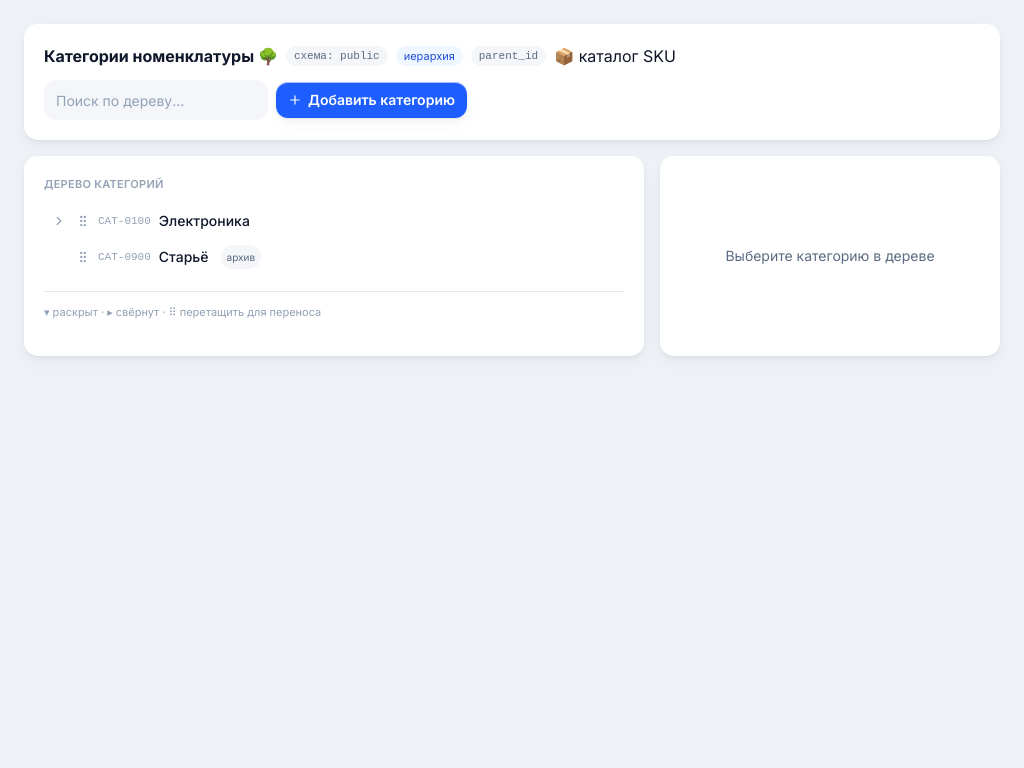
Scenario: SpravCategories › выбор узла раскрывает карточку с реквизитами и унаследованными данными группы
Click the text "Электроника" at (204, 220), box left=159, top=210, right=250, bottom=230
(page scrolled)
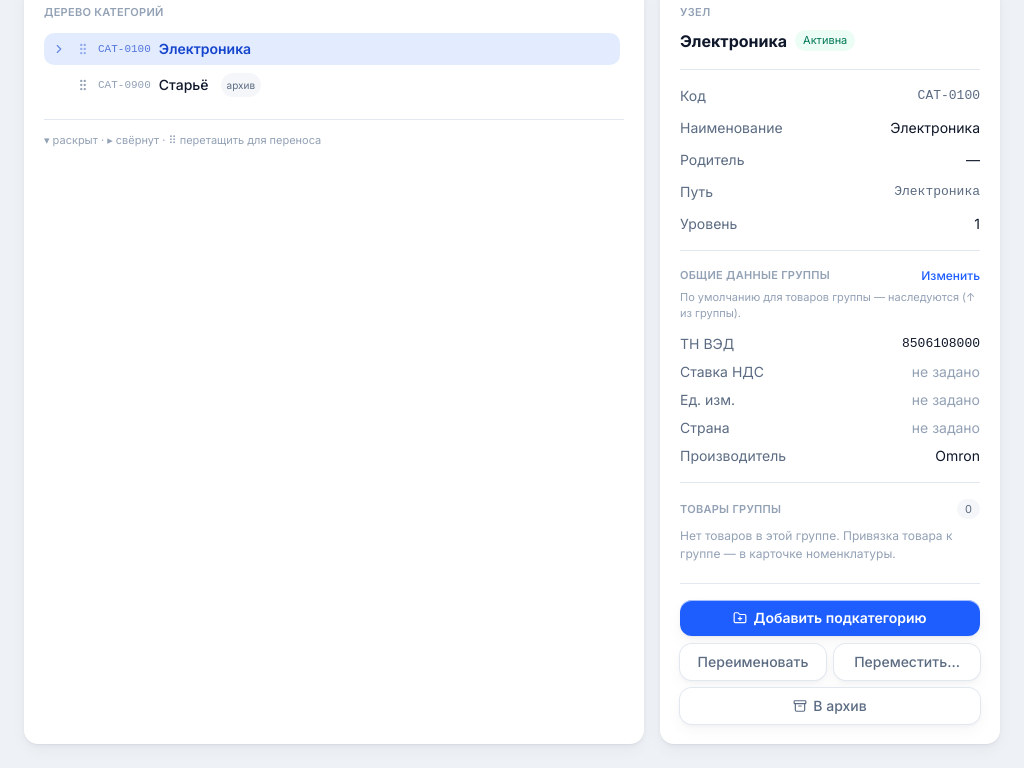
Now the text "Активна" is shown, box left=795, top=30, right=855, bottom=51
Now the text "8506108000" is shown, box left=902, top=334, right=980, bottom=354
Now the text "Omron" is shown, box left=935, top=446, right=980, bottom=466
